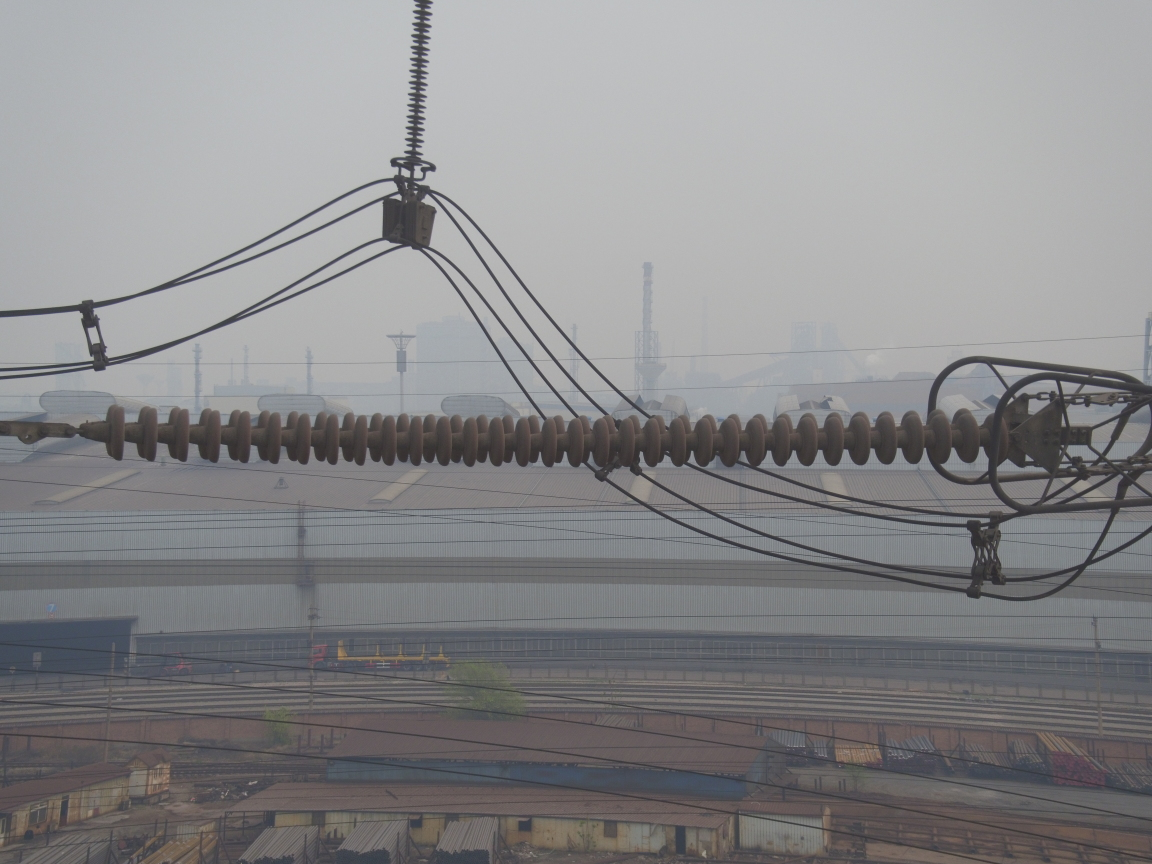insulator: (15, 395, 1035, 469)
